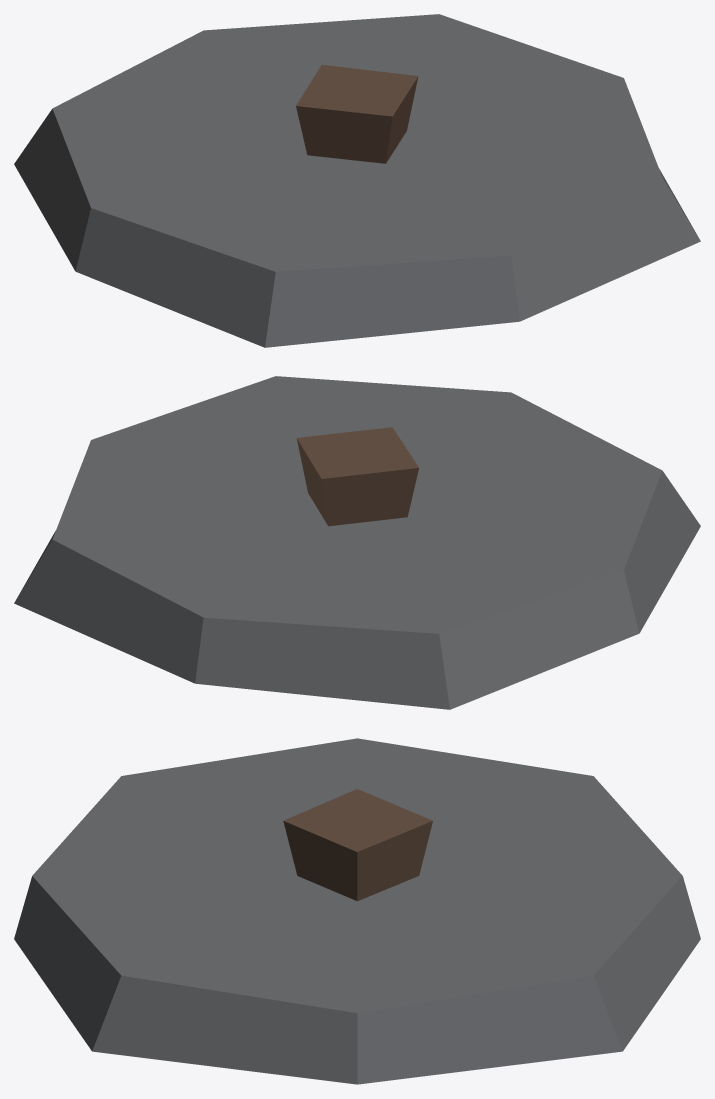
Rendered from lidSteel.fbx.
3 renders of one model, top to bottom at view 1: azimuth 30°, elevation 25°; view 2: azimuth 150°, elevation 25°; view 3: azimuth 270°, elevation 25°, orthographic. The views are drawn at different scales.
Parts seen in each view (by area): view 1: lidSteel; view 2: lidSteel; view 3: lidSteel.
Boxes of the visible parts, x1,y1,x2,y2 form: lidSteel: [14, 14, 700, 347]; lidSteel: [14, 376, 700, 709]; lidSteel: [14, 738, 700, 1084].
Bounding box in the file's own units: 31.01 × 5.88 × 30.93.
1 material, 1 textured.
